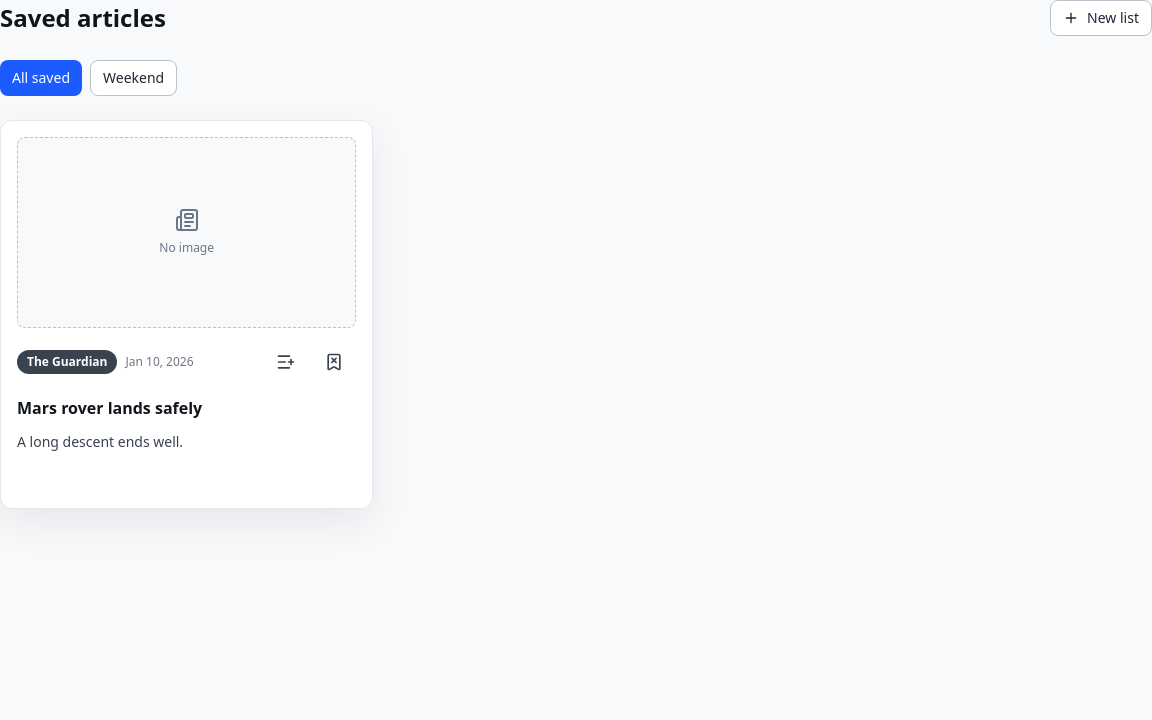
Test case: BookmarksPage — reading lists › renames the active list in place
The width and height of the screenshot is (1152, 720).
Expected: the button "Rename list" is not shown
Click the button "Weekend" at (134, 78), box [90,60,177,96]
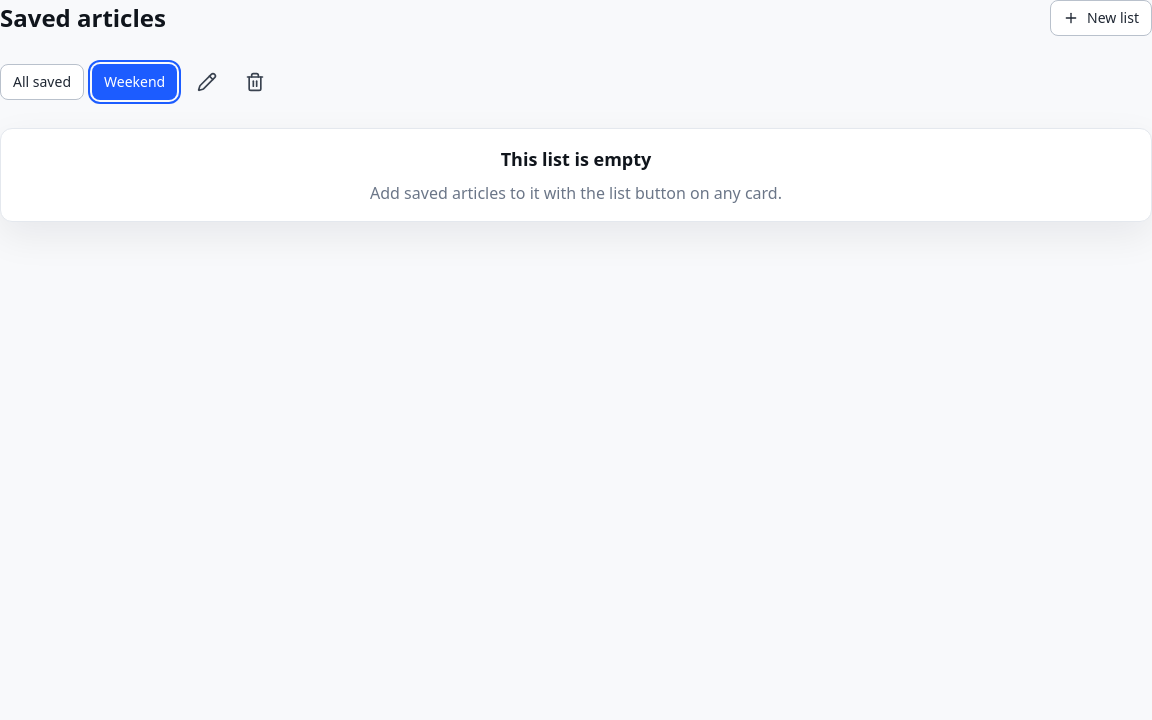
Click the button named "Rename list" at (207, 82), box [185,60,229,104]
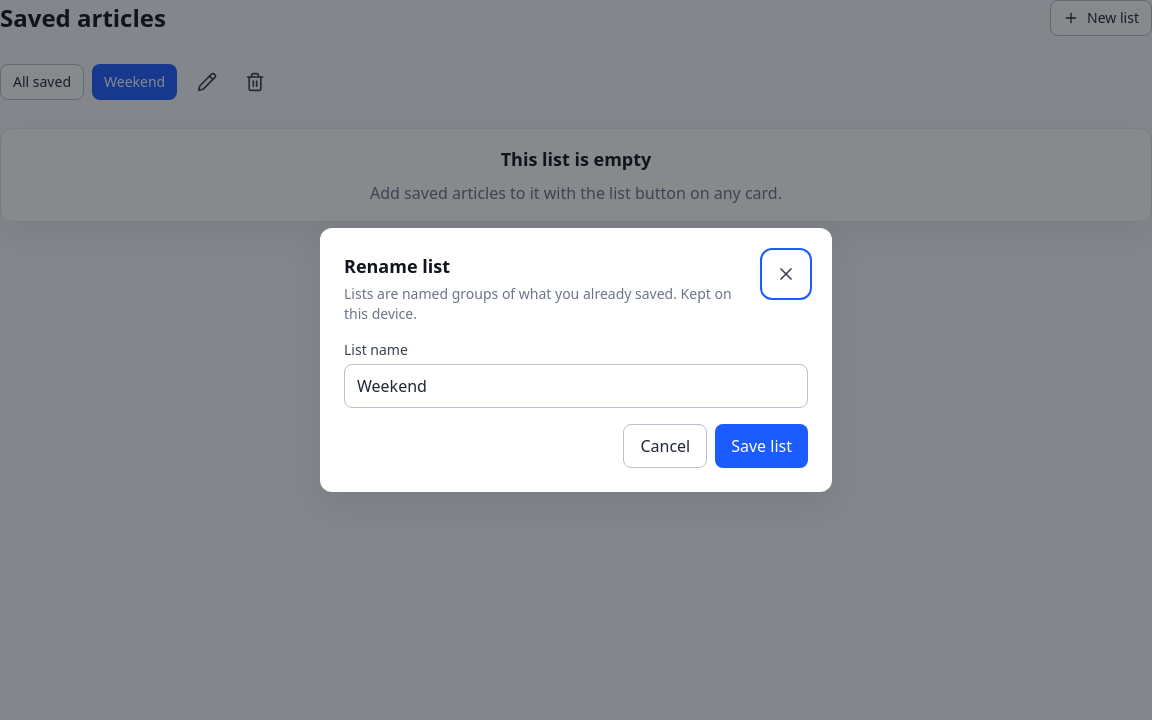
Now the field labelled "List name" holds "Weekend"
Replace the text in the field labelled "List name" with "Later" at (576, 386), box [344,364,808,408]
Then press Enter
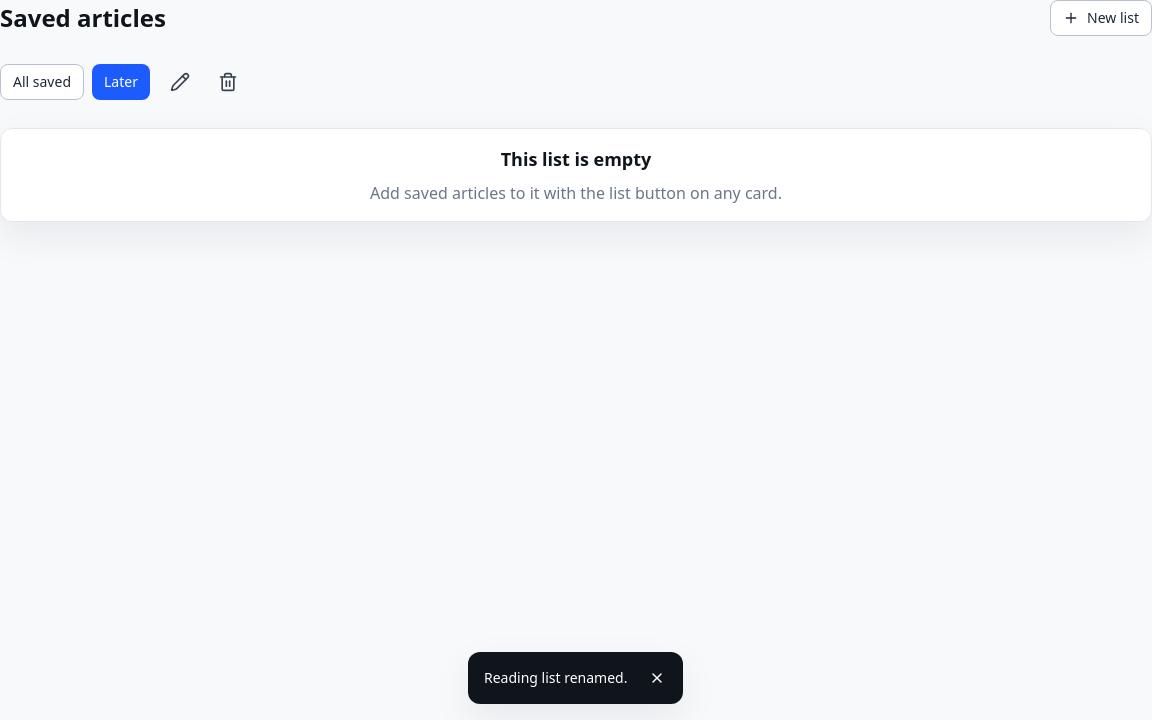
Now the button "Later" is shown, box [92,64,150,100]
Now the text "Reading list renamed." is shown, box [484,668,628,688]
